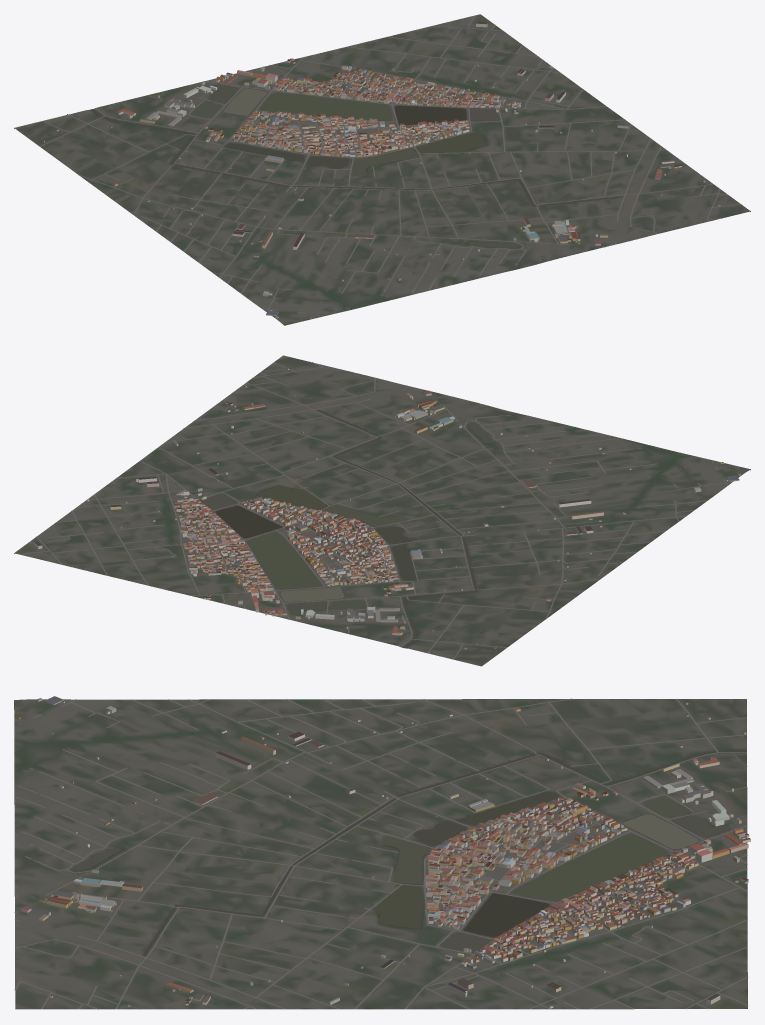
3 renders of one model, top to bottom at view 1: azimuth 30°, elevation 25°; view 2: azimuth 150°, elevation 25°; view 3: azimuth 270°, elevation 25°, orthographic. The views are drawn at different scales.
Visible parts, largest first — view 1: ground, buildings, roads, water; view 2: ground, buildings, roads, water; view 3: ground, buildings, roads, water.
Boxes of the visible parts, bbox=[...] form: ground: bbox=[14, 14, 750, 325]; buildings: bbox=[43, 22, 720, 318]; roads: bbox=[40, 15, 741, 315]; water: bbox=[91, 84, 622, 247]; ground: bbox=[14, 355, 750, 666]; buildings: bbox=[34, 368, 740, 653]; roads: bbox=[19, 362, 728, 659]; water: bbox=[201, 410, 490, 647]; ground: bbox=[14, 699, 747, 1009]; buildings: bbox=[15, 696, 750, 1008]; roads: bbox=[14, 698, 748, 1009]; water: bbox=[74, 750, 746, 955].
Bounding box in the file's own units: 1413 × 20.68 × 1410.
